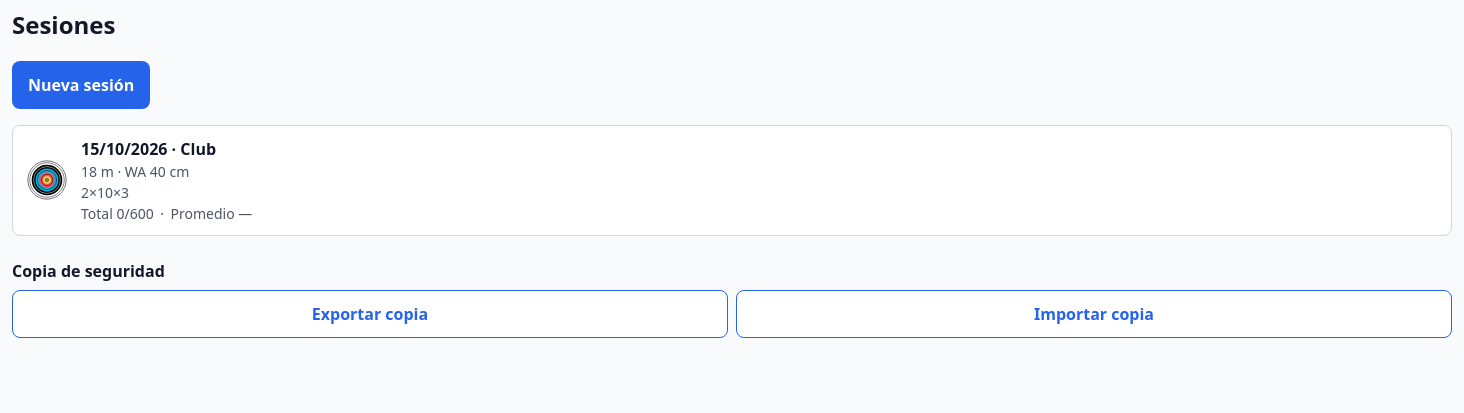
Test: SessionsView «Copia de seguridad» (CU-11) › export › a share failure whose fallback download also fails shows the export error
Click the button with test id "export-backup": (370,314) [12, 290, 728, 338]
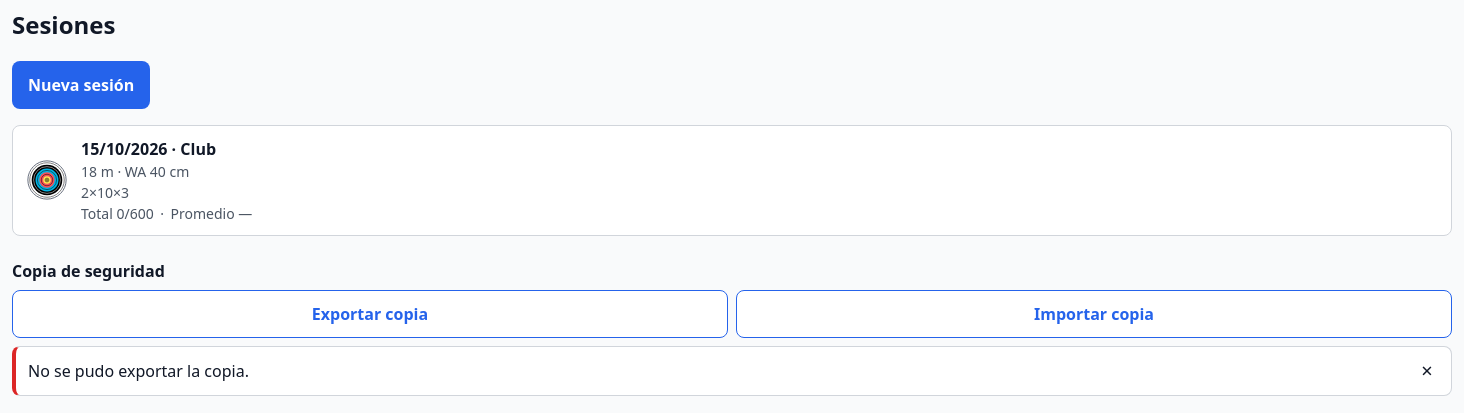
Result: the message with test id "backup-alert" shows "No se pudo exportar la copia." at [28, 360, 249, 382]
